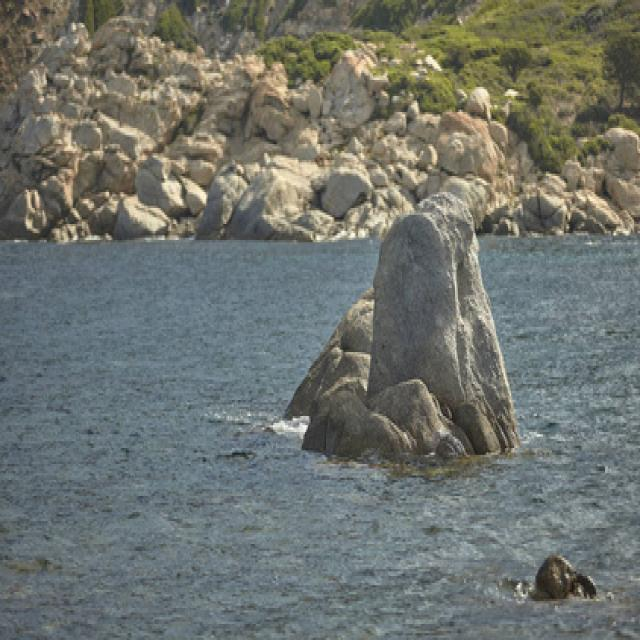reef: (289, 187, 524, 471)
